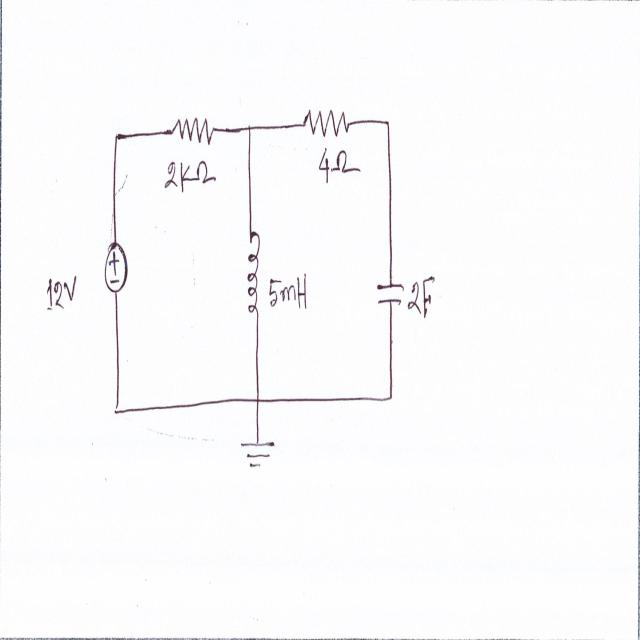capacitor: (374, 278, 406, 308)
ground: (238, 433, 278, 472)
inductor: (245, 228, 264, 317)
resistor: (299, 93, 351, 148), (171, 111, 216, 153)
voltage_source: (102, 238, 132, 296)
